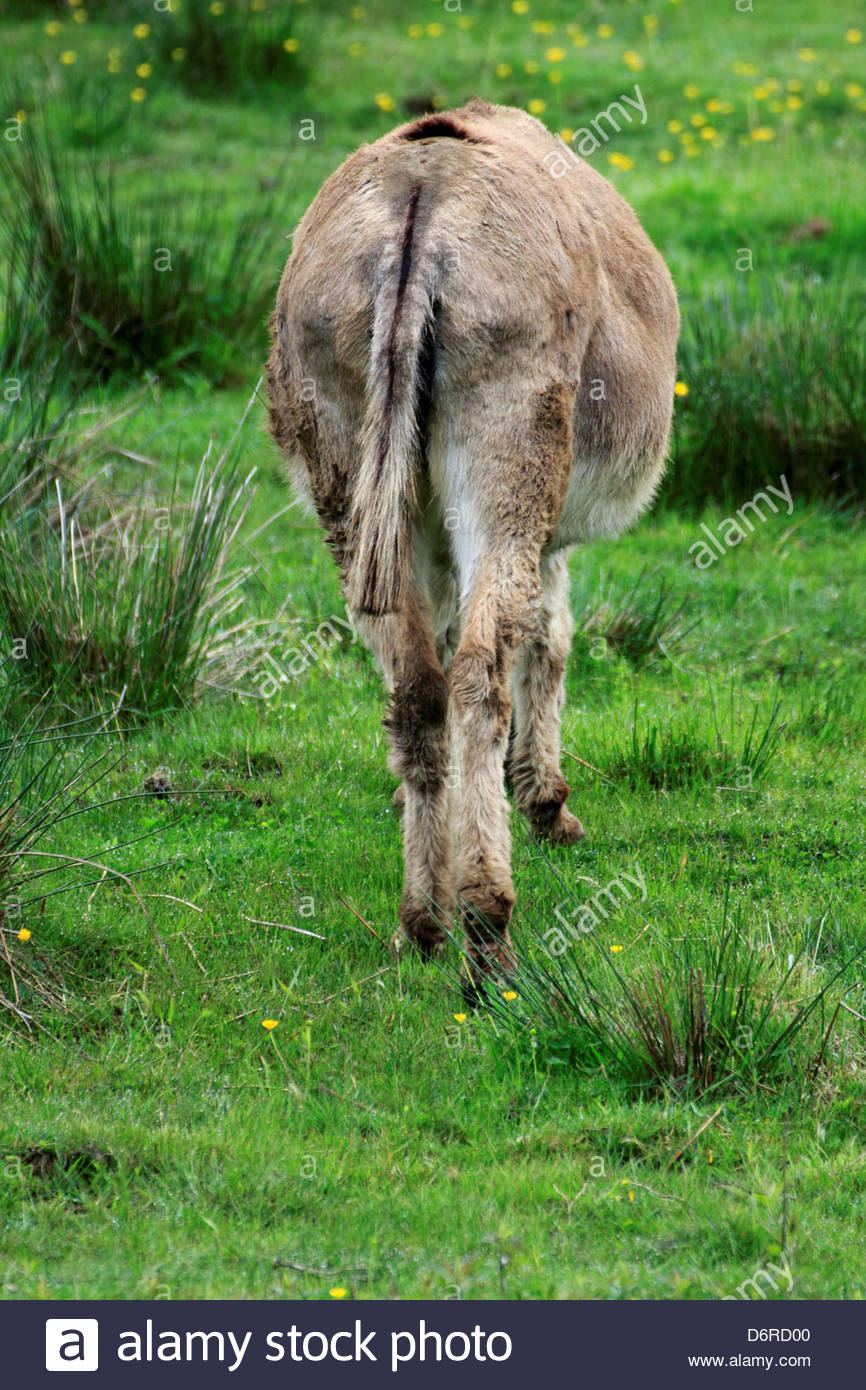donkey: (261, 93, 654, 975)
